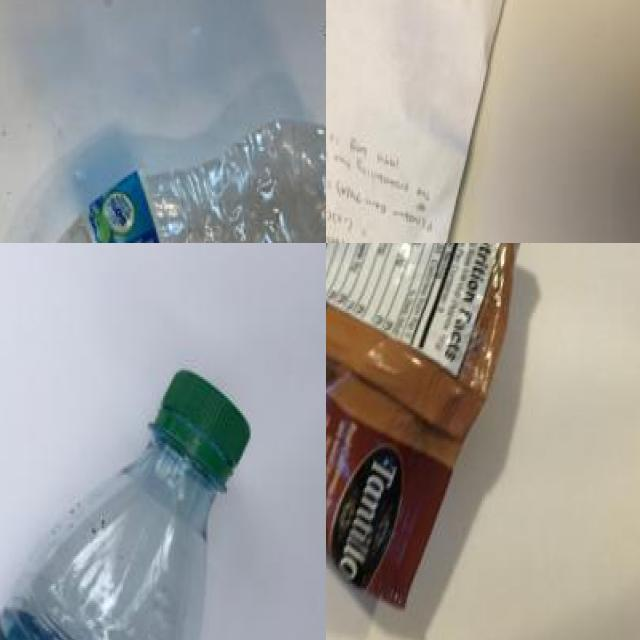paper: (326, 0, 486, 243)
plastic: (0, 350, 256, 640), (0, 131, 326, 243)
trash: (326, 243, 537, 608)
